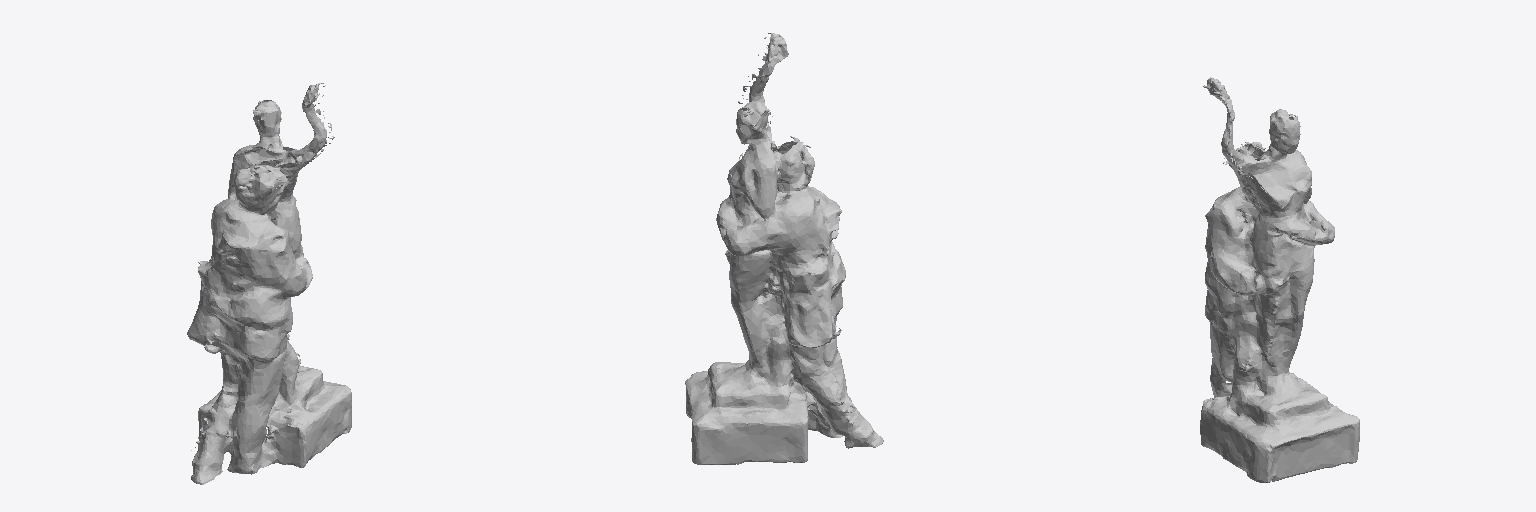
Rendered from gabi_lowpoly.obj.
3 renders of one model, left to right at view 1: azimuth 30°, elevation 25°; view 2: azimuth 150°, elevation 25°; view 3: azimuth 270°, elevation 25°, orthographic.
Size of the model in its own units: 1.04 by 2.15 by 0.8155.